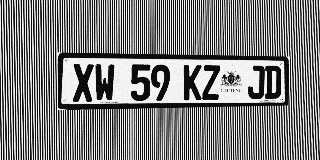5: (131, 64, 150, 101)
9: (151, 64, 170, 101)
D: (265, 66, 281, 99)
J: (248, 65, 265, 99)
K: (183, 65, 202, 100)
W: (94, 64, 115, 102)
X: (72, 64, 94, 102)
Z: (202, 65, 220, 100)
